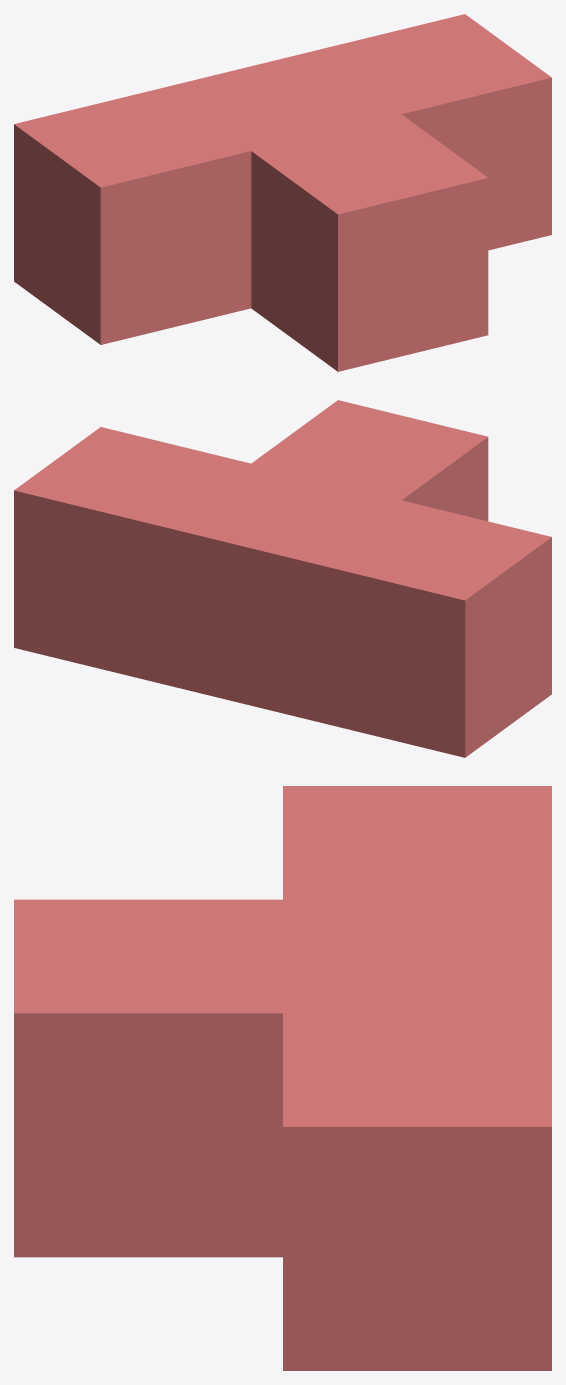
File: TOTU_OJ_002.fbx
3 views of the same model, one above another, from view 1: azimuth 30°, elevation 25°; view 2: azimuth 150°, elevation 25°; view 3: azimuth 270°, elevation 25° (orthographic). The views are drawn at different scales.
Visible parts, largest first — view 1: totu_test; view 2: totu_test; view 3: totu_test.
Part boxes in pixels (x1,y1,x2,y2): totu_test: (14, 14, 551, 371); totu_test: (14, 400, 551, 757); totu_test: (14, 786, 551, 1370).
Size of the model in its own units: 150 by 50 by 100.
